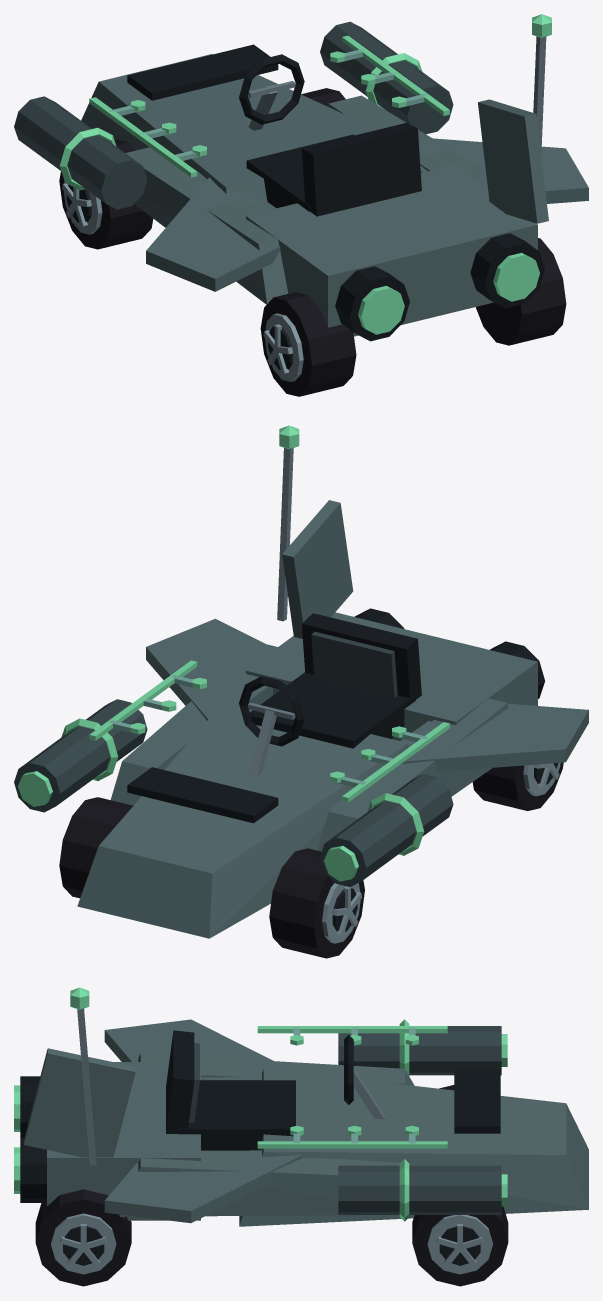
Rendered from kart.glb.
The picture shows the model from 3 angles, top to bottom: view 1: azimuth 30°, elevation 25°; view 2: azimuth 150°, elevation 25°; view 3: azimuth 270°, elevation 25°; orthographic projection. The views are drawn at different scales.
Visible parts, largest first — view 1: identity-shuttle-shuttle-flight-planform, identity-shuttle-motif-plasma, identity-shuttle-driver-cockpit, wheel-rear-left, wheel-rear-right, identity-shuttle-motif-circuit, wheel-front-left, identity-shuttle-motif-antenna; view 2: identity-shuttle-shuttle-flight-planform, identity-shuttle-driver-cockpit, identity-shuttle-motif-plasma, wheel-front-left, identity-shuttle-motif-circuit, wheel-front-right, wheel-rear-left, identity-shuttle-motif-antenna; view 3: identity-shuttle-shuttle-flight-planform, identity-shuttle-motif-plasma, identity-shuttle-driver-cockpit, wheel-rear-right, wheel-front-right, identity-shuttle-motif-circuit, identity-shuttle-motif-antenna.
Part boxes in pixels (x1,y1,x2,y2): identity-shuttle-shuttle-flight-planform: (81, 44, 588, 341); identity-shuttle-motif-plasma: (14, 21, 453, 209); identity-shuttle-driver-cockpit: (239, 54, 421, 216); wheel-rear-left: (260, 292, 356, 396); wheel-rear-right: (475, 238, 566, 345); identity-shuttle-motif-circuit: (89, 35, 449, 177); wheel-front-left: (59, 139, 153, 249); identity-shuttle-motif-antenna: (532, 14, 551, 154); identity-shuttle-shuttle-flight-planform: (77, 500, 588, 938); identity-shuttle-driver-cockpit: (239, 613, 421, 777); identity-shuttle-motif-plasma: (14, 699, 453, 886); wheel-front-left: (269, 848, 364, 958); identity-shuttle-motif-circuit: (89, 660, 449, 802); wheel-front-right: (59, 797, 133, 898); wheel-rear-left: (472, 762, 563, 810); identity-shuttle-motif-antenna: (277, 425, 299, 621); identity-shuttle-shuttle-flight-planform: (14, 1019, 588, 1226); identity-shuttle-motif-plasma: (338, 1019, 507, 1221); identity-shuttle-driver-cockpit: (166, 1030, 384, 1150); wheel-rear-right: (35, 1189, 131, 1286); wheel-front-right: (412, 1206, 508, 1286); identity-shuttle-motif-circuit: (257, 1026, 447, 1148); identity-shuttle-motif-antenna: (70, 987, 96, 1165).
Size of the model in its own units: 2.36 by 1.72 by 2.99.
